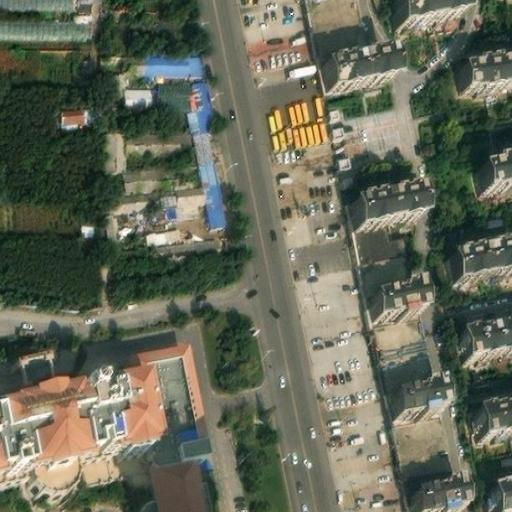building: (129, 342, 215, 482), (343, 197, 418, 348), (160, 125, 228, 222), (391, 425, 458, 512), (301, 0, 365, 79), (315, 45, 388, 88), (153, 77, 212, 128), (348, 184, 419, 226), (447, 235, 512, 280), (0, 12, 89, 41), (385, 390, 441, 435), (364, 279, 422, 319), (461, 316, 512, 356), (457, 53, 512, 89), (467, 408, 512, 452), (128, 50, 203, 72), (127, 126, 191, 151), (108, 69, 153, 104), (394, 0, 466, 19), (127, 160, 171, 186), (406, 490, 456, 512), (480, 150, 512, 183), (110, 185, 152, 210), (102, 128, 127, 166), (481, 486, 512, 512), (77, 216, 107, 239), (143, 225, 178, 239), (62, 103, 89, 119)
